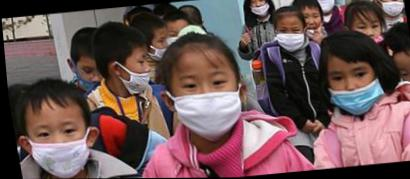OK: (167, 65, 246, 146), (26, 113, 91, 179), (273, 20, 305, 51), (312, 1, 338, 14)
WRONG: (323, 57, 380, 119), (114, 49, 155, 95), (74, 61, 110, 94), (350, 17, 385, 49), (296, 7, 325, 39), (144, 31, 170, 63), (393, 60, 410, 100), (378, 1, 407, 20), (250, 1, 271, 19)
